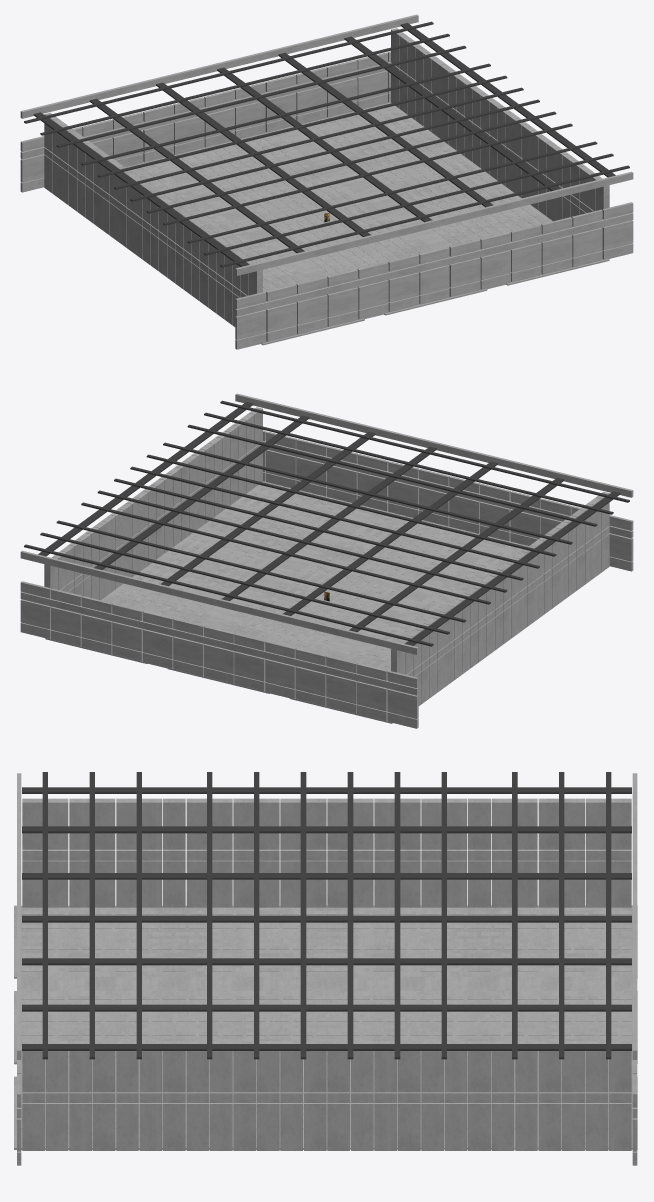
File: retailmekans-opt-v3.glb
The picture shows the model from 3 angles, top to bottom: view 1: azimuth 30°, elevation 25°; view 2: azimuth 150°, elevation 25°; view 3: azimuth 270°, elevation 25°; orthographic projection. The views are drawn at different scales.
Parts seen in each view (by area): view 1: Concrete, Spartacus; view 2: Concrete, Spartacus; view 3: Concrete, Spartacus.
Boxes of the visible parts, x1,y1,x2,y2 form: Concrete: (20,14,633,349); Spartacus: (24,21,629,267); Concrete: (20,393,633,728); Spartacus: (24,400,629,646); Concrete: (14,773,637,1165); Spartacus: (22,772,631,1059).
Size of the model in its own units: 191 by 41.53 by 177.
5 materials, 2 textured.
